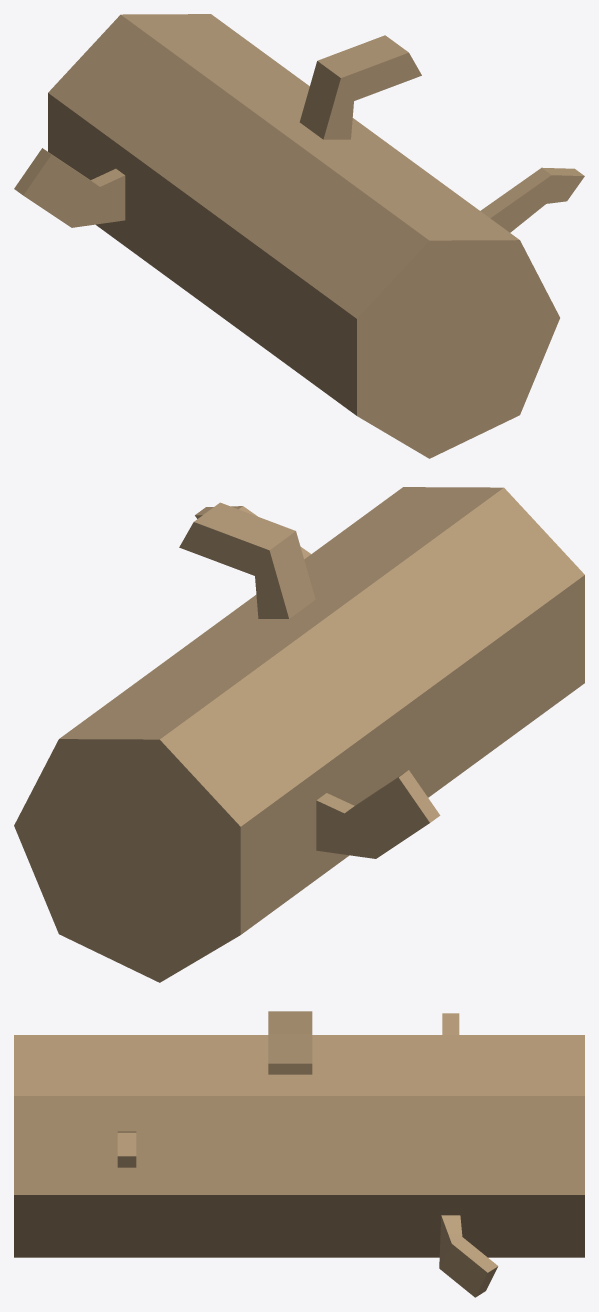
File: Log.fbx
The picture shows the model from 3 angles, top to bottom: view 1: azimuth 30°, elevation 25°; view 2: azimuth 150°, elevation 25°; view 3: azimuth 270°, elevation 25°; orthographic projection. The views are drawn at different scales.
Parts seen in each view (by area): view 1: pCylinder1; view 2: pCylinder1; view 3: pCylinder1.
Part boxes in pixels (x1,y1,x2,y2): pCylinder1: (14, 14, 584, 458); pCylinder1: (14, 487, 584, 982); pCylinder1: (14, 1011, 584, 1297).
Bounding box in the file's own units: 3.61 × 2.47 × 5.
